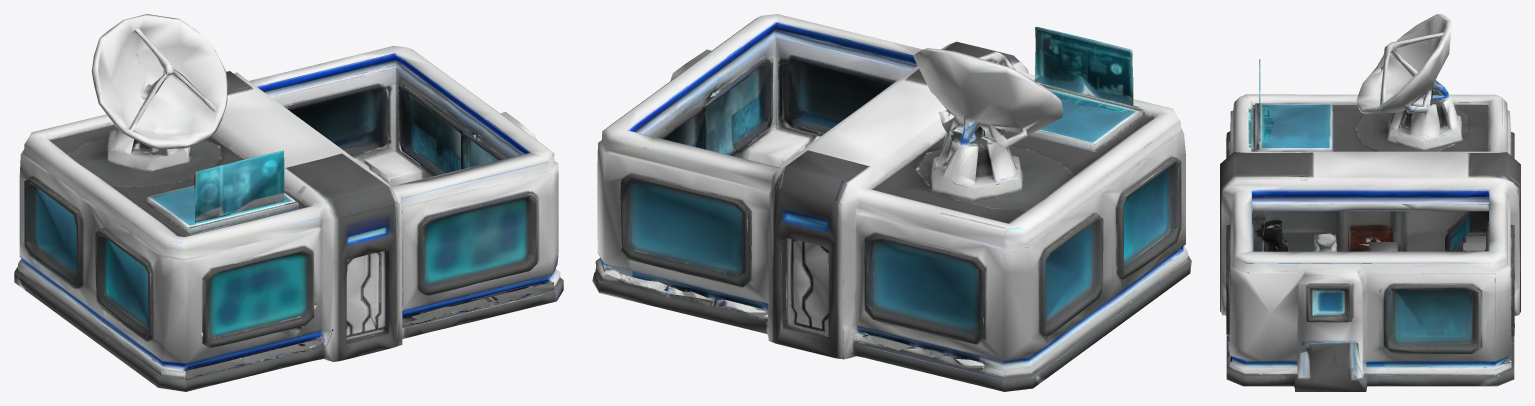
Rendered from engineering_bay.glb.
3 renders of one model, left to right at view 1: azimuth 30°, elevation 25°; view 2: azimuth 150°, elevation 25°; view 3: azimuth 270°, elevation 25°, orthographic. The views are drawn at different scales.
Parts seen in each view (by area): view 1: Mesh1.0; view 2: Mesh1.0; view 3: Mesh1.0.
Boxes of the visible parts, x1,y1,x2,y2 form: Mesh1.0: (14, 14, 563, 391); Mesh1.0: (592, 14, 1191, 391); Mesh1.0: (1220, 14, 1520, 391).
Bounding box in the file's own units: 1.91 × 1.17 × 1.38.
1 material, 1 textured.
